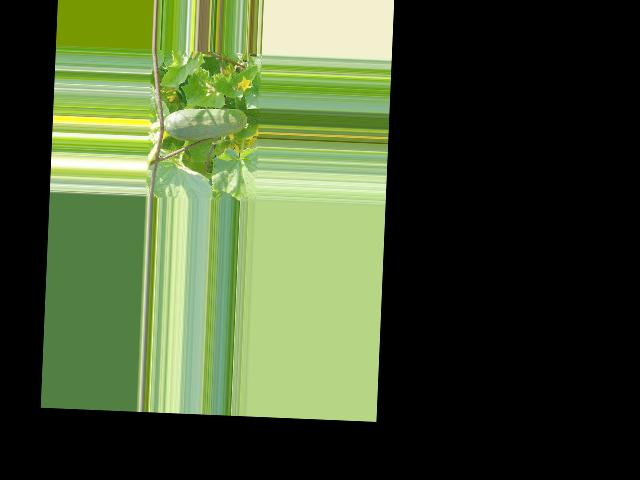cucumber: (163, 106, 247, 144)
